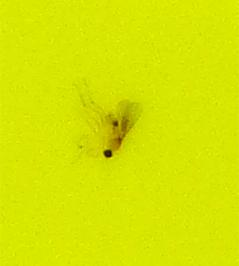Brachycera: (100, 100, 139, 166)
